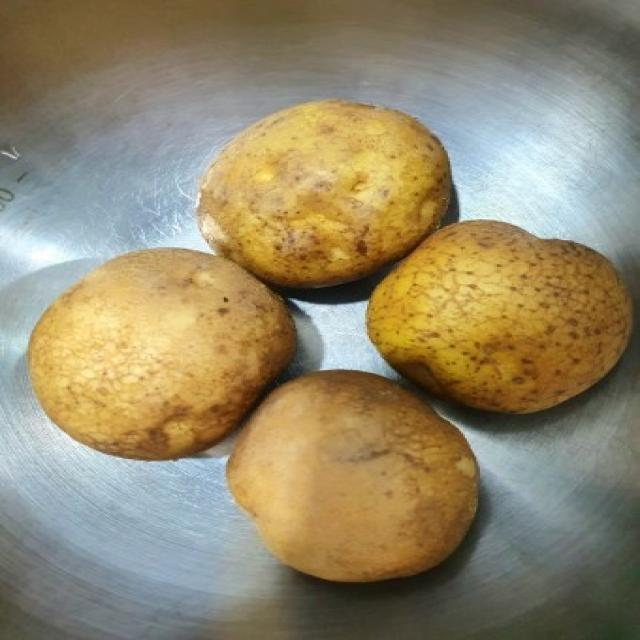potato: (27, 243, 294, 464), (226, 362, 482, 586), (367, 216, 640, 414), (191, 97, 457, 296)
